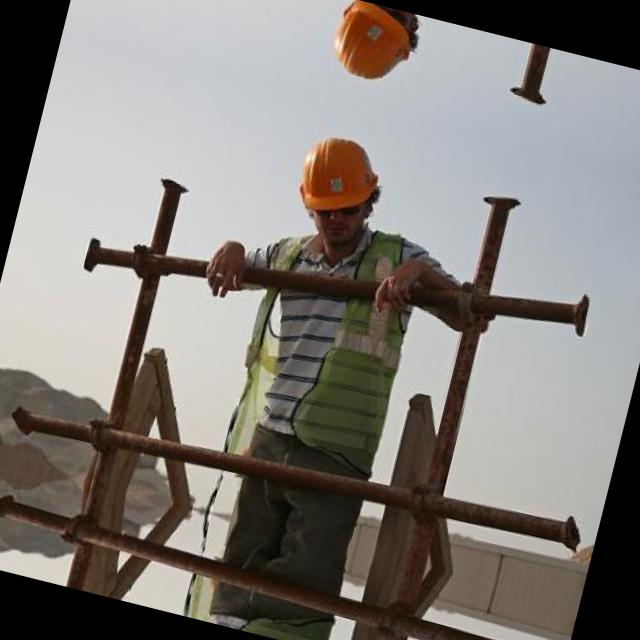helmet: (272, 108, 406, 268), (310, 0, 434, 111)
